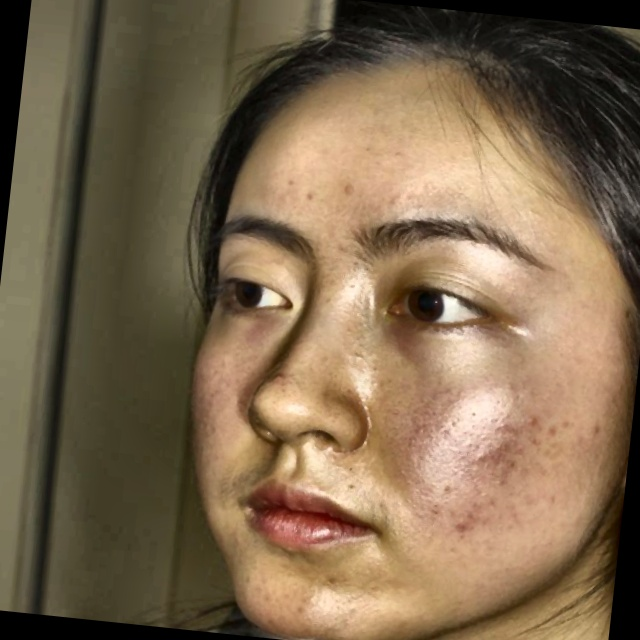comedone: (443, 510, 484, 539), (523, 408, 547, 434)
